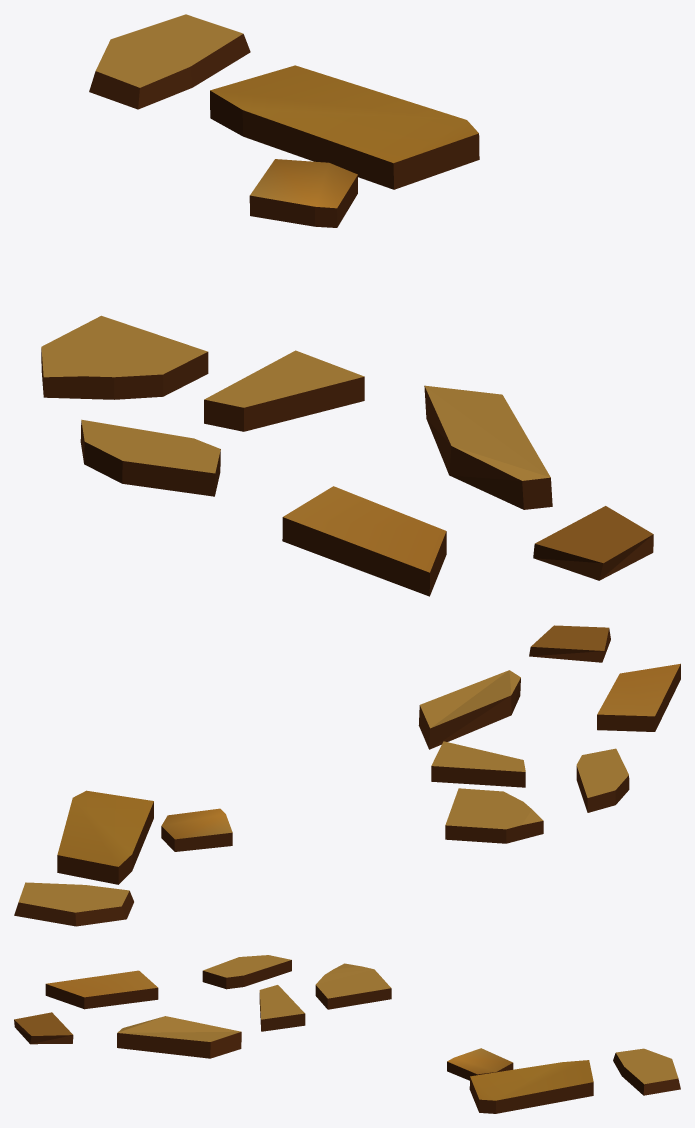
File: ENV_RTS_Ruins_Bricks_01.fbx
3 views of the same model, one above another, from view 1: azimuth 30°, elevation 25°; view 2: azimuth 150°, elevation 25°; view 3: azimuth 270°, elevation 25° (orthographic). The views are drawn at different scales.
Parts seen in each view (by area): view 1: ENV_RTS_Ruins_Bricks_01; view 2: ENV_RTS_Ruins_Bricks_01; view 3: ENV_RTS_Ruins_Bricks_01.
Boxes of the visible parts, <box> form: ENV_RTS_Ruins_Bricks_01: <box>41,14,653,596</box>; ENV_RTS_Ruins_Bricks_01: <box>14,625,680,926</box>; ENV_RTS_Ruins_Bricks_01: <box>14,955,680,1113</box>.
Bounding box in the file's own units: 502 × 32.92 × 950.
